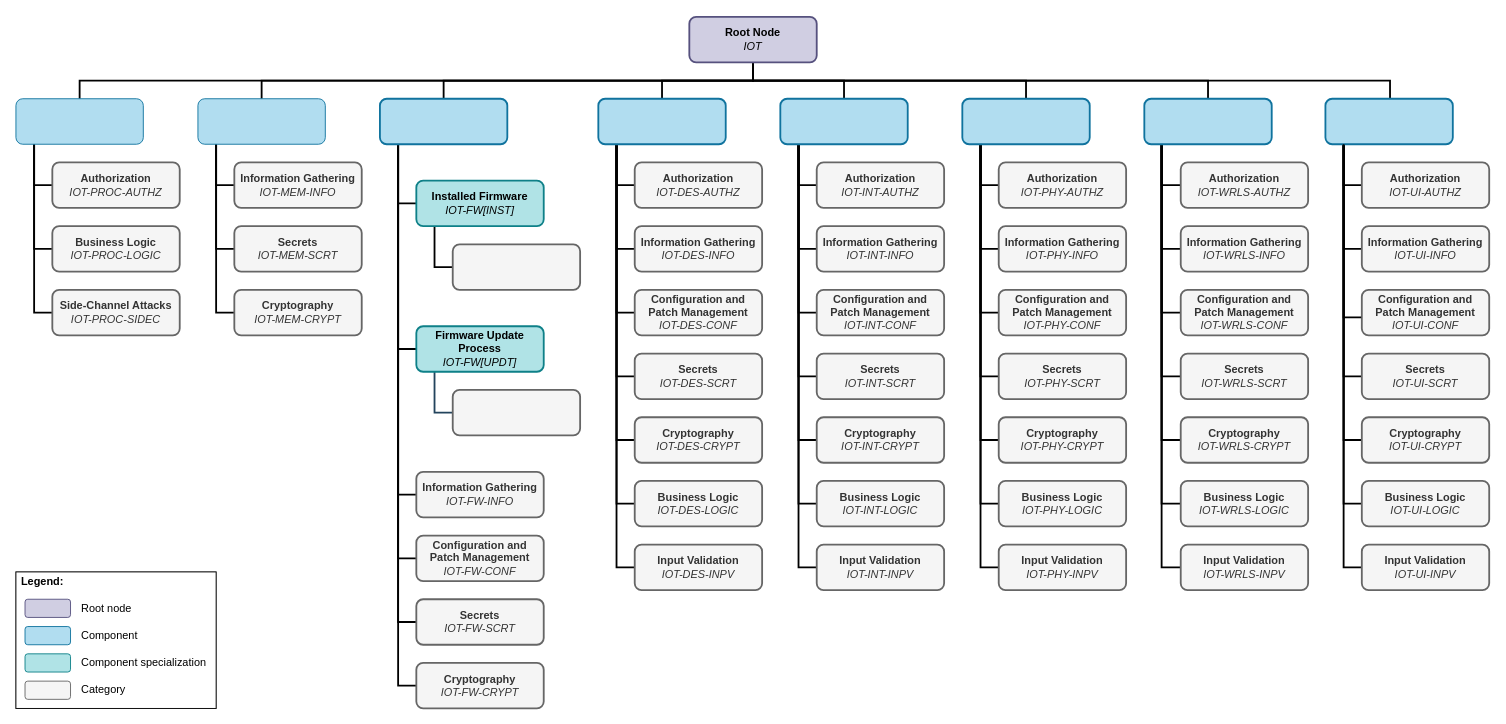
Image size: 1506x724. Some labels were removed from this diagram. Each missing label, with the centre of its shape:
"Authorization IOT-FW[INST]-AUTHZ" belongs at [516,266].
"Business Logic IOT-FW[UPDT]-LOGIC" belongs at [516,412].
"Data Exchange Service IOT-DES" belongs at [661,121].
"Firmware IOT-FW" belongs at [443,121].
"Internal Interface IOT-INT" belongs at [843,121].
"Memory IOT-MEM" belongs at [261,121].
"Physical Interface IOT-PHY" belongs at [1025,121].
"Processing Unit IOT-PROC" belongs at [79,121].
"User Interface IOT-UI" belongs at [1388,121].
"Wireless Interface IOT-WRLS" belongs at [1207,121].
